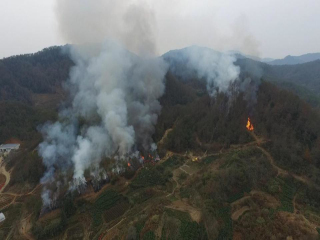smoke: (35, 6, 161, 209), (177, 41, 252, 107)
